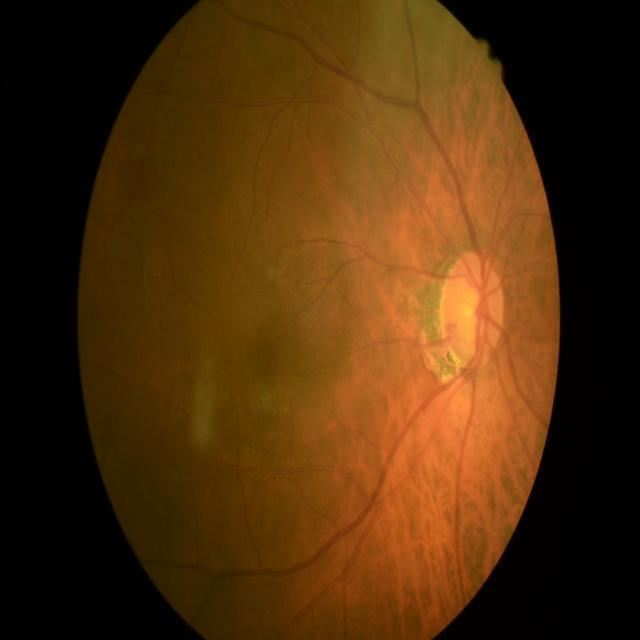cup: (451, 278, 488, 356)
disk: (442, 252, 504, 366)
